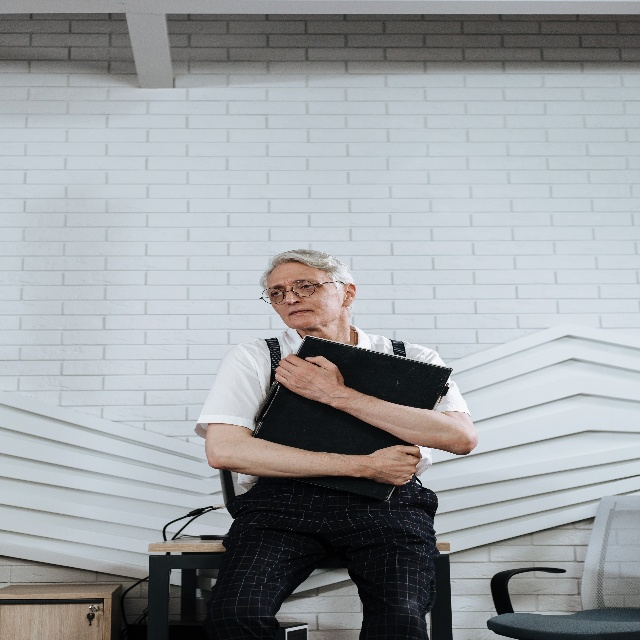Gafas: (259, 281, 345, 305)
Sin_guantes: (274, 351, 343, 406), (369, 443, 422, 488)
